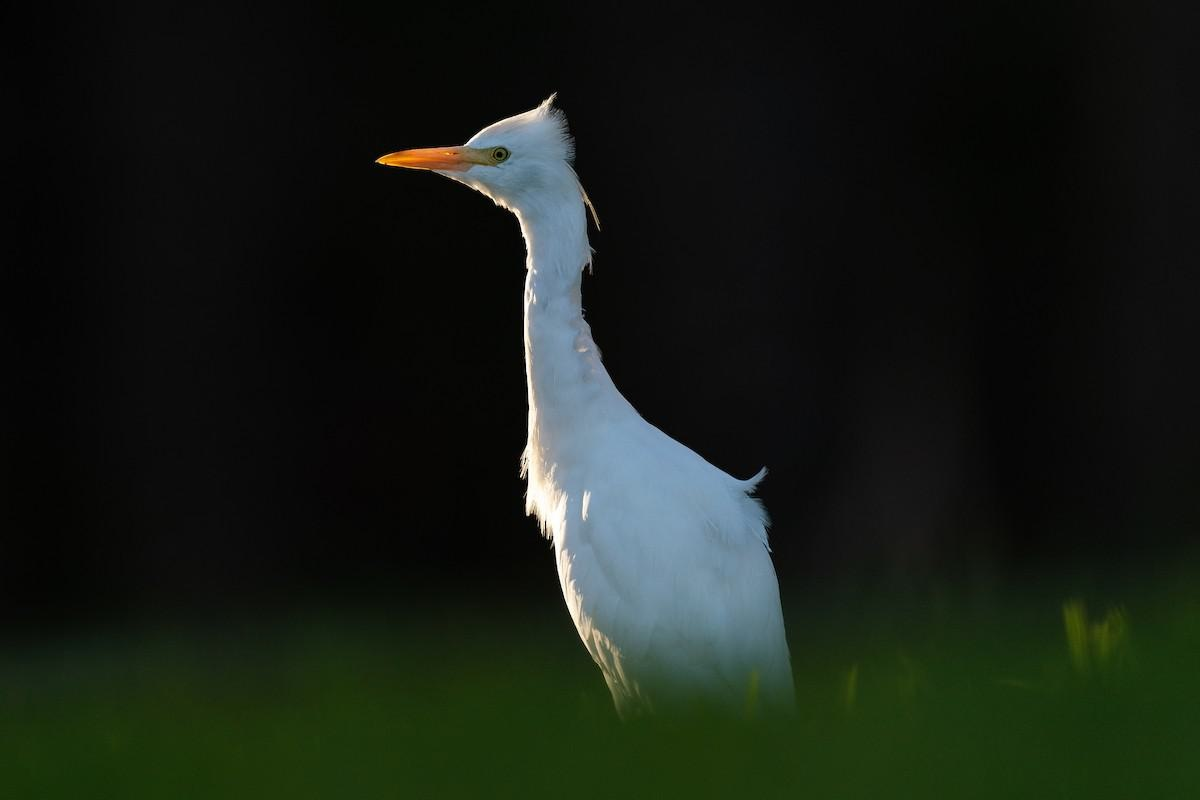egret: (377, 86, 819, 731)
